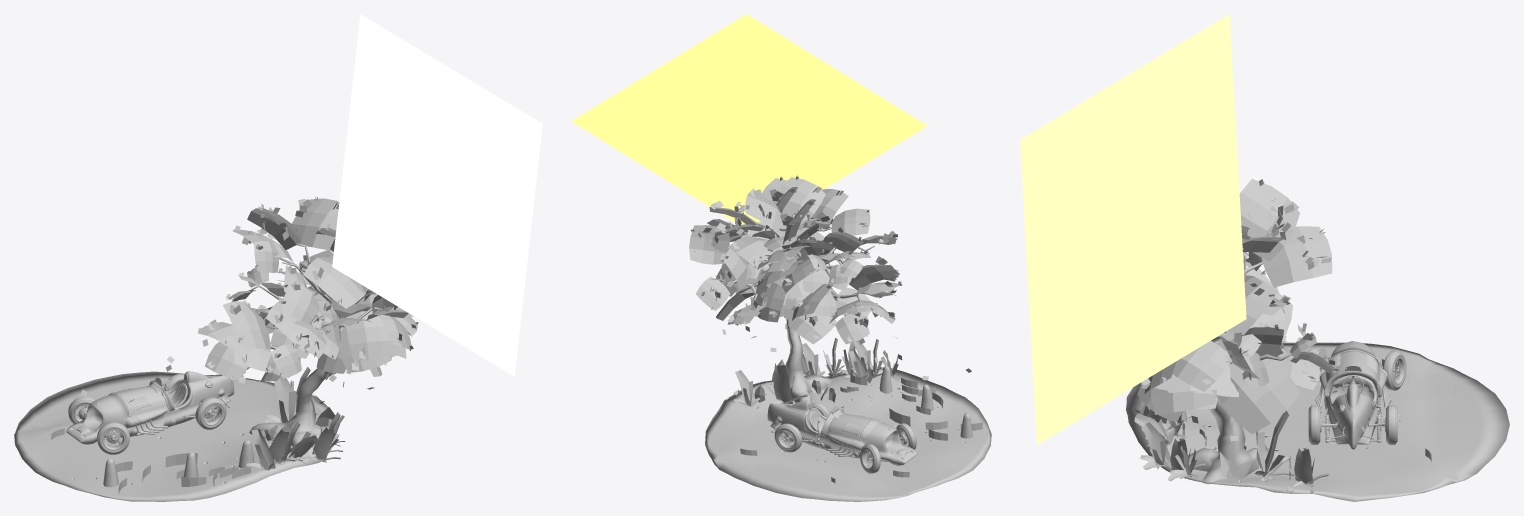
The picture shows the model from 3 angles, left to right: view 1: azimuth 30°, elevation 25°; view 2: azimuth 150°, elevation 25°; view 3: azimuth 270°, elevation 25°; orthographic projection. The views are drawn at different scales.
Parts seen in each view (by area): view 1: Plane.013, veg, ground, car; view 2: Plane.013, veg, ground, car; view 3: Plane.013, ground, veg, car.
Boxes of the visible parts, <box> form: Plane.013: <box>332,14,542,376</box>; veg: <box>51,196,418,494</box>; ground: <box>14,243,394,501</box>; car: <box>66,371,234,454</box>; Plane.013: <box>571,14,926,224</box>; veg: <box>689,175,982,483</box>; ground: <box>705,218,991,501</box>; car: <box>767,400,917,473</box>; Plane.013: <box>1020,14,1246,444</box>; ground: <box>1126,255,1509,501</box>; veg: <box>1133,179,1431,493</box>; car: <box>1308,341,1406,449</box>.
Size of what is drawn, in the model's own units: 3.37 by 2.89 by 2.48.
